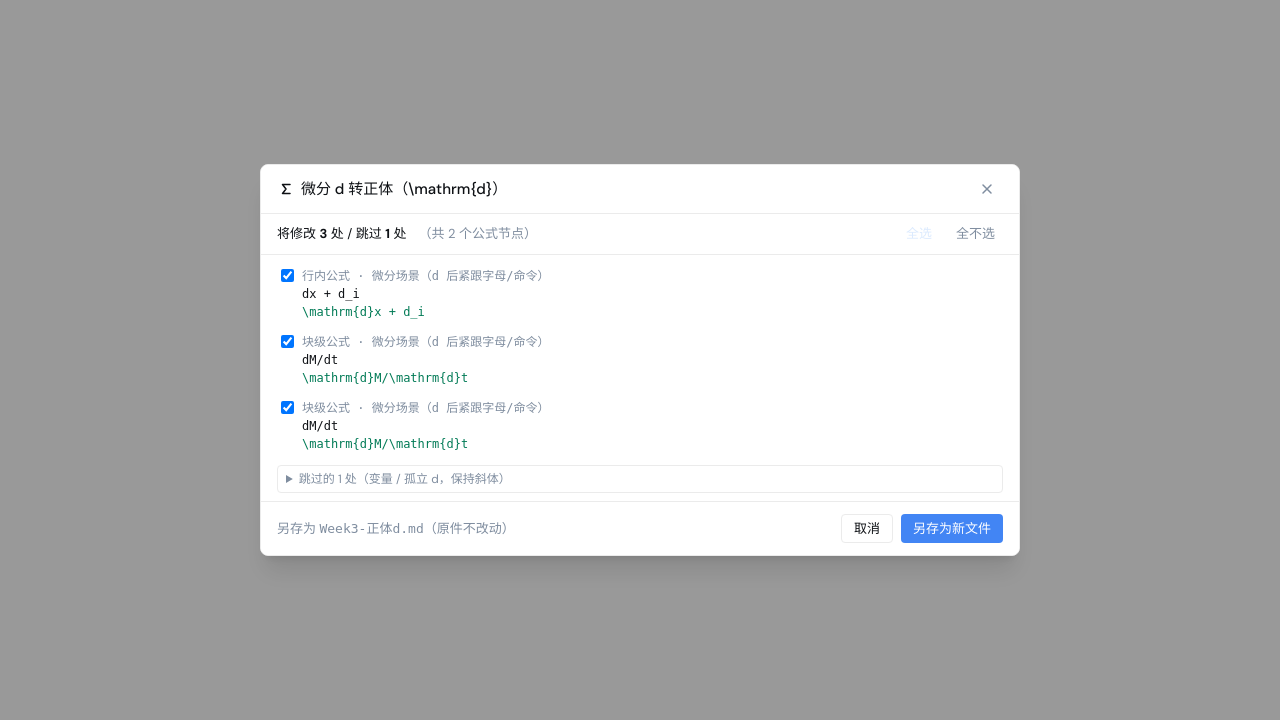
Test case: task-74 对话框：另存新文件 › 成功后给出「已另存…（原件未改动）」提示，且**不自动打开**新文件（按钮变「关闭」）
Click the button "另存为新文件" at [952, 528], box left=901, top=514, right=1003, bottom=543
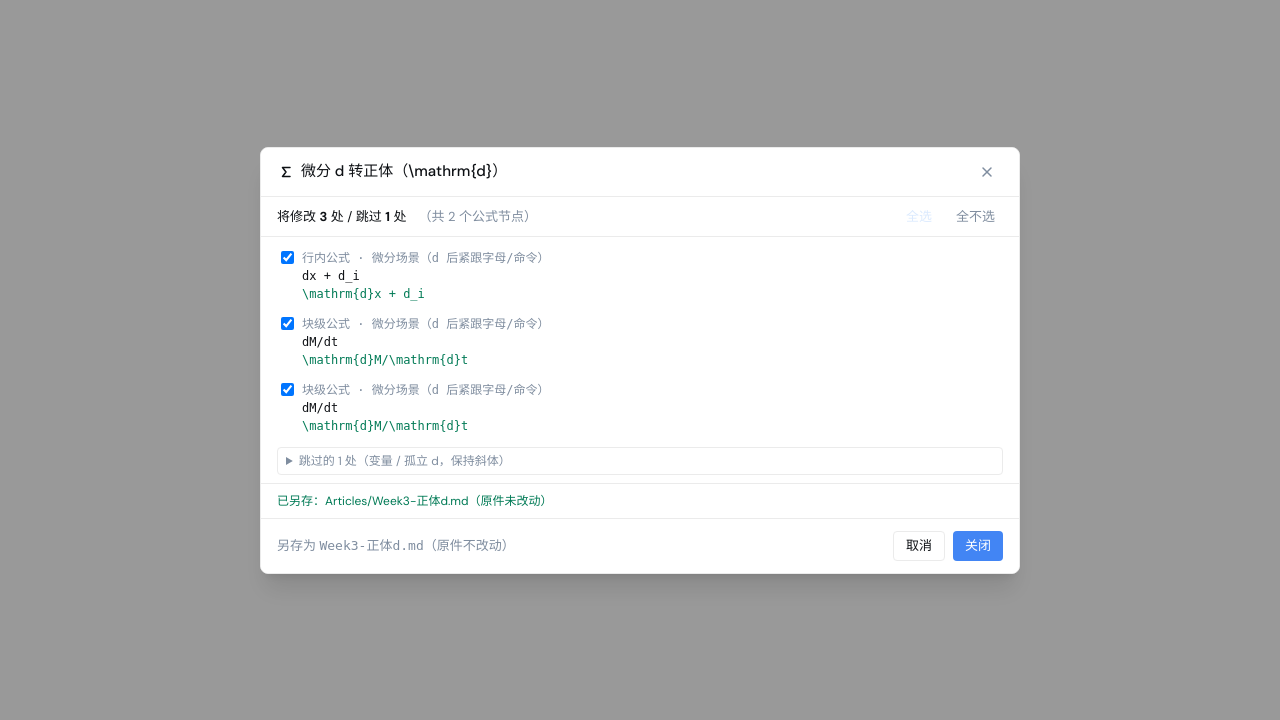
Expected: the text "已另存：Articles/Week3-正体d.md（原件未改动）" is shown, left=261, top=483, right=1019, bottom=518
Expected: the button "关闭" is shown, left=953, top=531, right=1003, bottom=560
